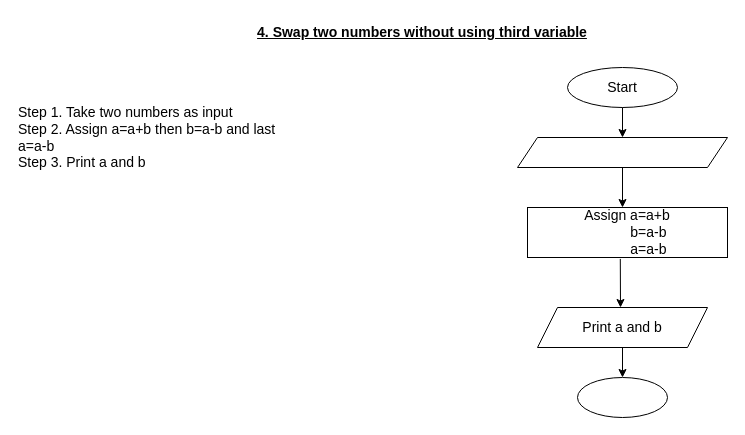
Image size: 745x435. Some labels were removed from this diagram. The box of each missing label's shape, as (x1, y1, x2, y2) in pixels:
Input two numbers: (516, 136, 728, 168)
Stop: (576, 376, 668, 418)
